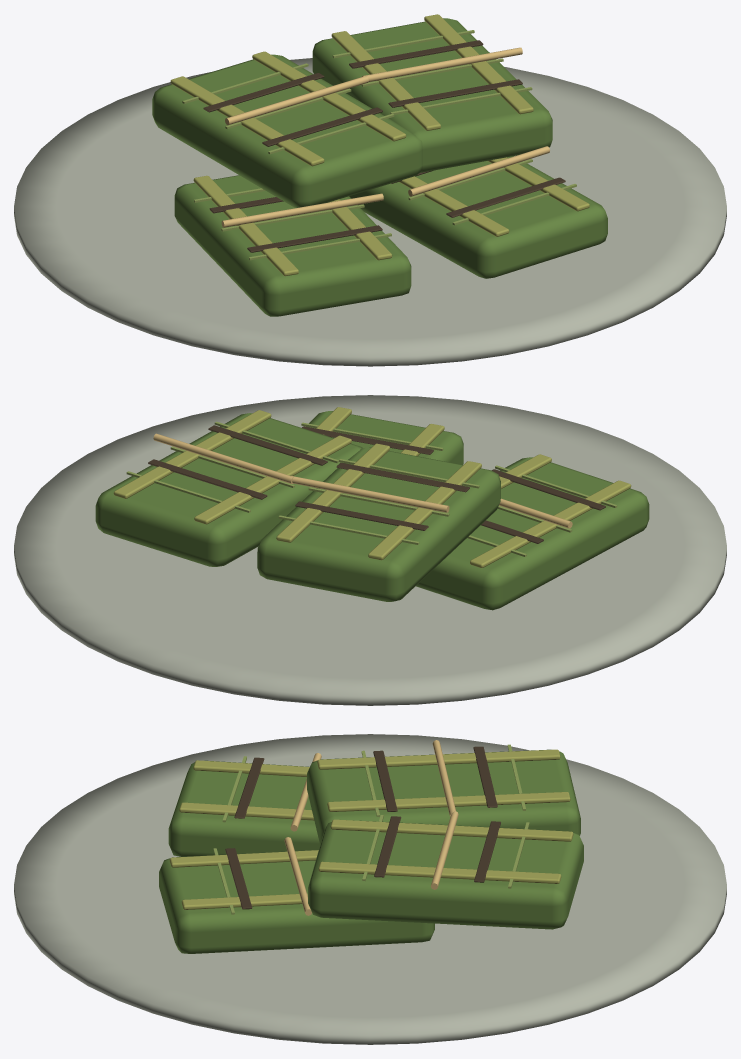
3 renders of one model, top to bottom at view 1: azimuth 30°, elevation 25°; view 2: azimuth 150°, elevation 25°; view 3: azimuth 270°, elevation 25°, orthographic.
Visible parts, largest first — view 1: Tray, Parcels, Grill marks, Pins; view 2: Tray, Parcels, Grill marks, Pins; view 3: Tray, Parcels, Grill marks, Pins.
Boxes of the visible parts, box(x1,y1,x2,y2) form: Tray: box(14, 58, 726, 366); Parcels: box(152, 14, 607, 316); Grill marks: box(203, 40, 565, 252); Pins: box(221, 47, 549, 227); Tray: box(14, 395, 726, 705); Parcels: box(95, 407, 649, 610); Grill marks: box(148, 425, 605, 543); Pins: box(153, 433, 572, 528); Tray: box(14, 734, 726, 1044); Parcels: box(159, 744, 583, 953); Grill marks: box(225, 746, 500, 909); Pins: box(284, 740, 458, 915).
Size of the model in its own units: 0.34 by 0.0608 by 0.34.
